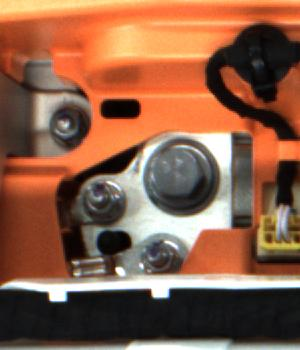nut_b: (133, 131, 227, 217)
screw_s: (75, 173, 120, 218), (137, 237, 175, 276), (48, 105, 81, 141)
